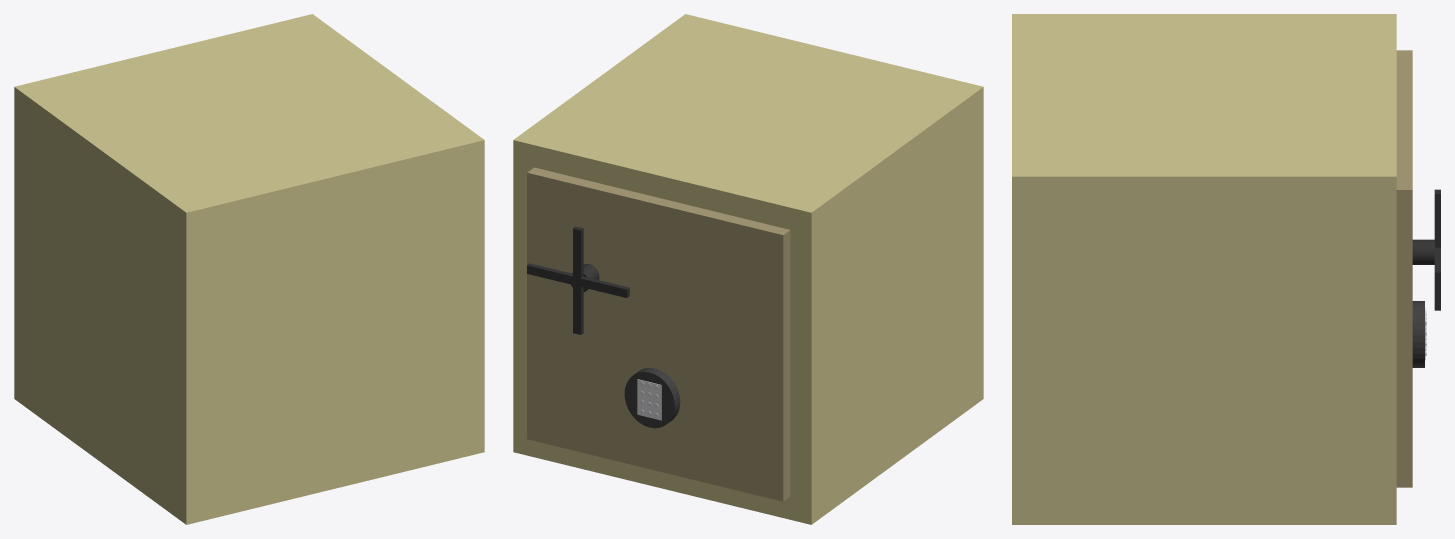
The model's file is safe.fbx.
The picture shows the model from 3 angles, left to right: view 1: azimuth 30°, elevation 25°; view 2: azimuth 150°, elevation 25°; view 3: azimuth 270°, elevation 25°; orthographic projection. The views are drawn at different scales.
Parts seen in each view (by area): view 1: Cube; view 2: Cube; view 3: Cube.
Part boxes in pixels (x1=…): Cube: x1=14, y1=14, x2=484, y2=524; Cube: x1=513, y1=14, x2=983, y2=524; Cube: x1=1012, y1=14, x2=1440, y2=524.
Size of the model in its own units: 504 by 504 by 562.
